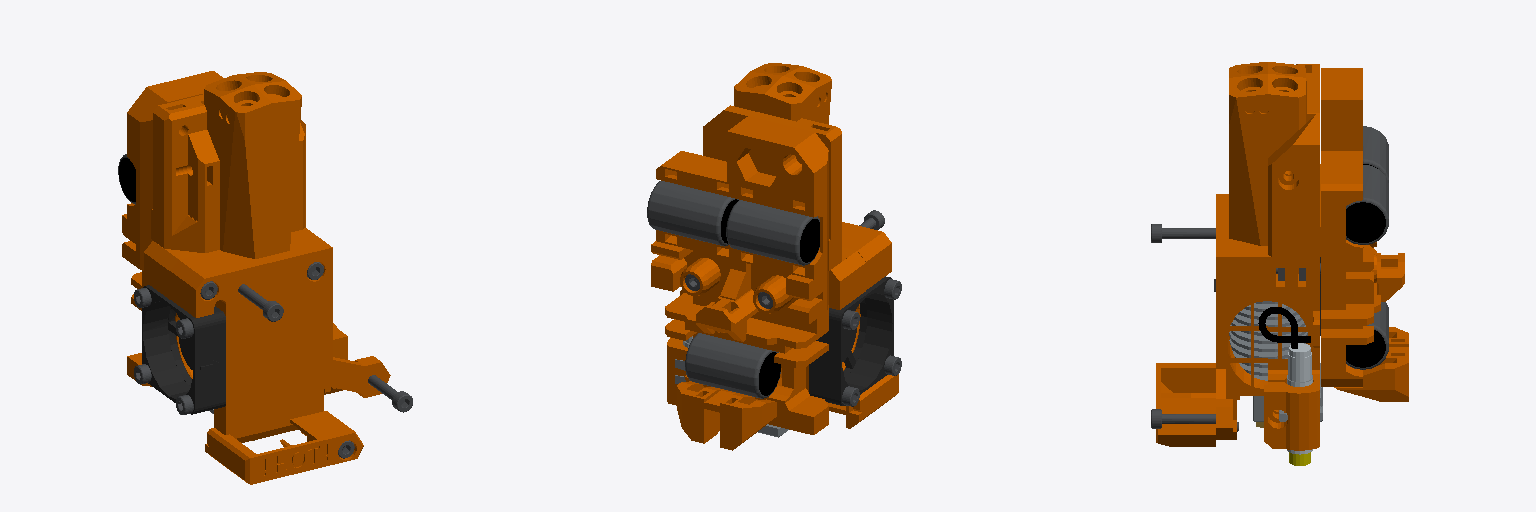
Rendered from MK2MMU_E.obj.
The picture shows the model from 3 angles: view 1: azimuth 30°, elevation 25°; view 2: azimuth 150°, elevation 25°; view 3: azimuth 270°, elevation 25°; orthographic projection.
Parts seen in each view (by area): view 1: i3_mk2; view 2: i3_mk2; view 3: i3_mk2.
Part boxes in pixels (x1,y1,x2,y2): i3_mk2: (118, 71, 412, 484); i3_mk2: (647, 63, 901, 450); i3_mk2: (1151, 62, 1408, 465).
Size of the model in its own units: 0.0676 by 0.112 by 0.0734.